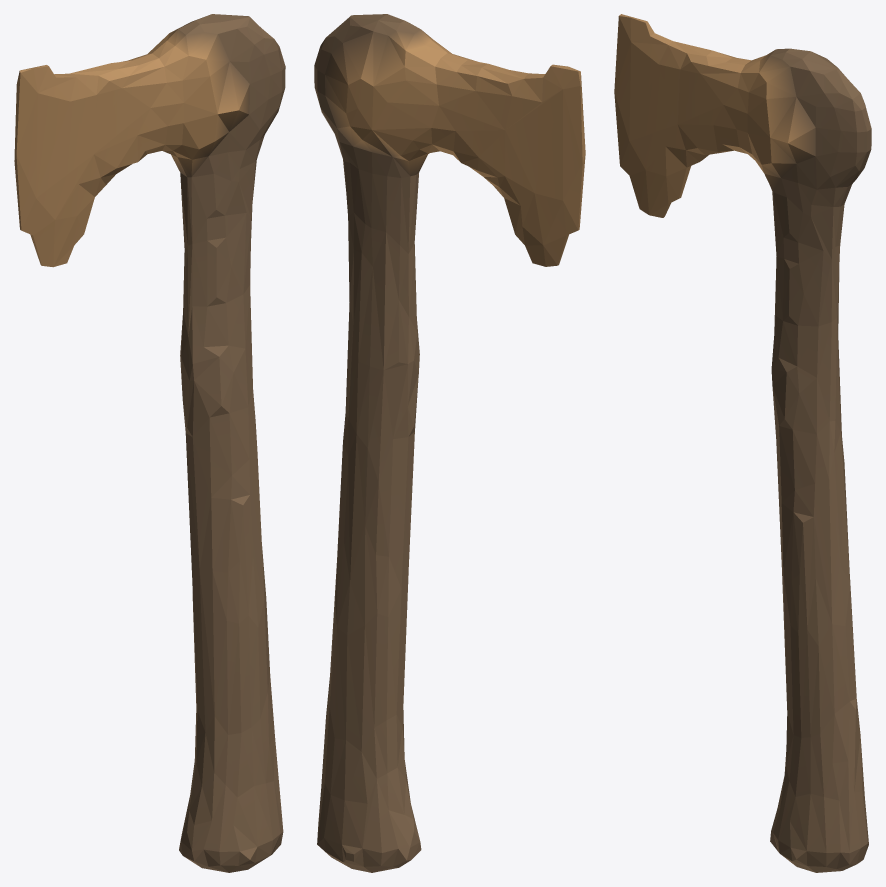
File: axe_copper.glb
3 renders of one model, left to right at view 1: azimuth 30°, elevation 25°; view 2: azimuth 150°, elevation 25°; view 3: azimuth 330°, elevation 25°, orthographic. The views are drawn at different scales.
Visible parts, largest first — view 1: world; view 2: world; view 3: world.
Part boxes in pixels (box(x1,y1,x2,y2)): world: box(14, 14, 285, 872); world: box(314, 14, 585, 872); world: box(614, 14, 871, 872).
Bounding box in the file's own units: 0.3299 × 1 × 0.0945.
